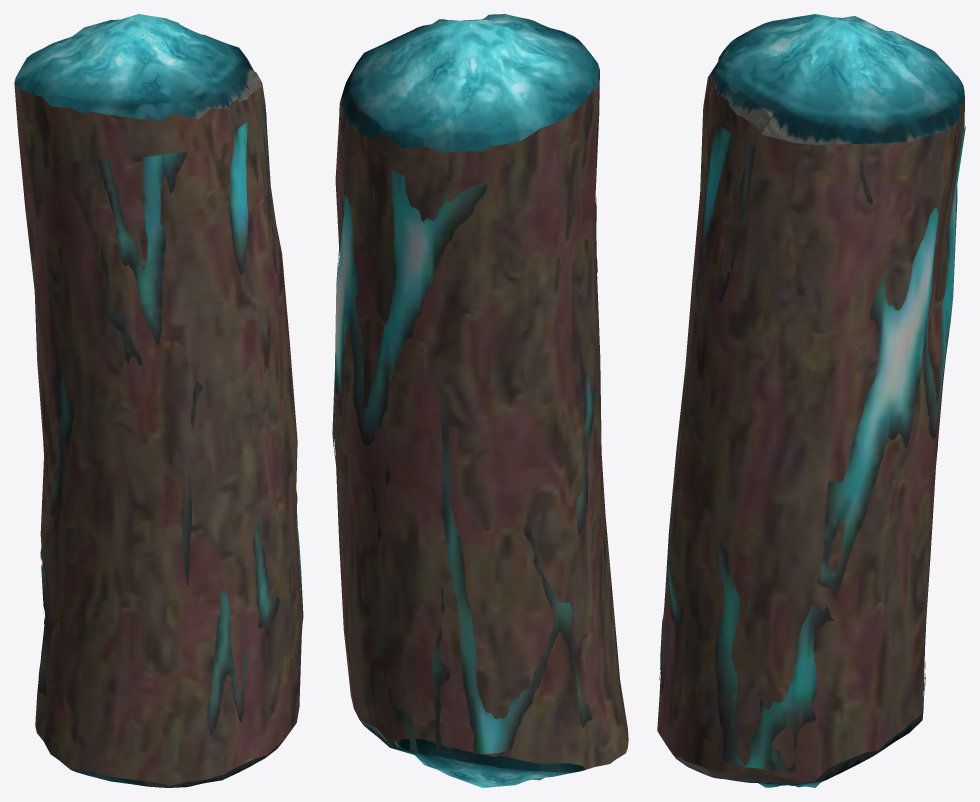
The picture shows the model from 3 angles, left to right: view 1: azimuth 30°, elevation 25°; view 2: azimuth 150°, elevation 25°; view 3: azimuth 270°, elevation 25°; orthographic projection. The views are drawn at different scales.
Visible parts, largest first — view 1: SM_MagicTree_01_quarter_02_LOD0; view 2: SM_MagicTree_01_quarter_02_LOD0; view 3: SM_MagicTree_01_quarter_02_LOD0.
Part boxes in pixels (x1,y1,x2,y2): SM_MagicTree_01_quarter_02_LOD0: (14, 14, 303, 787); SM_MagicTree_01_quarter_02_LOD0: (332, 14, 628, 787); SM_MagicTree_01_quarter_02_LOD0: (657, 14, 965, 787).
Bounding box in the file's own units: 0.7758 × 2.3 × 0.8476.
1 material, 1 textured.
